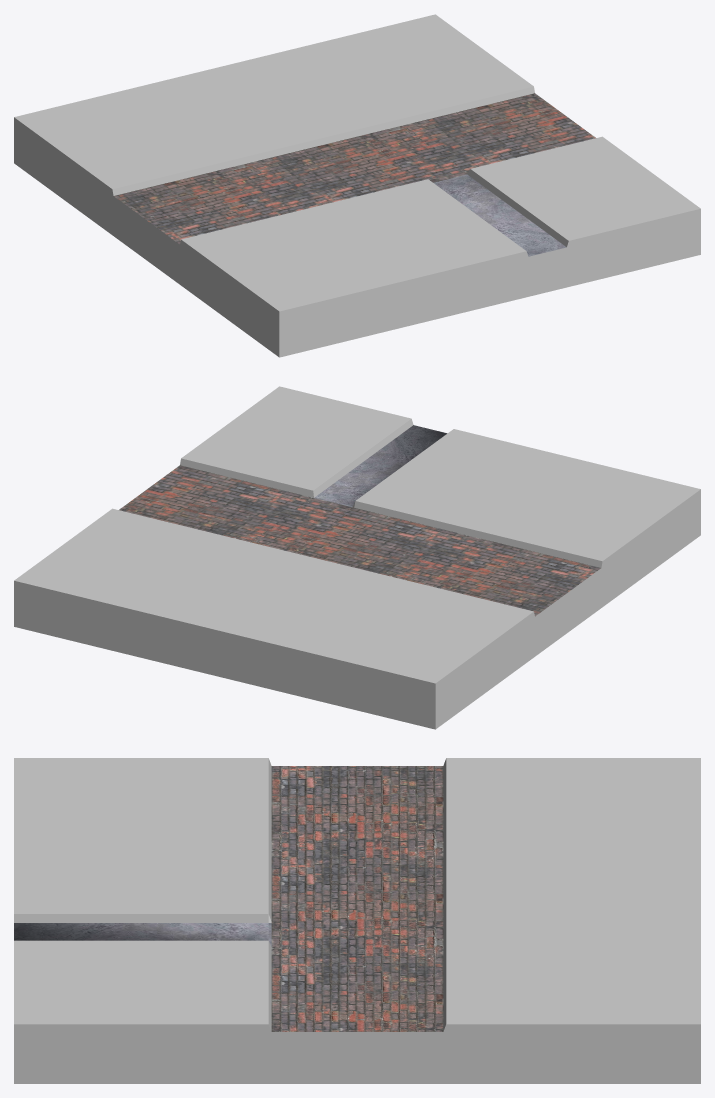
The model's file is Walkway.fbx.
The picture shows the model from 3 angles, top to bottom: view 1: azimuth 30°, elevation 25°; view 2: azimuth 150°, elevation 25°; view 3: azimuth 270°, elevation 25°; orthographic projection. The views are drawn at different scales.
Visible parts, largest first — view 1: Terrain; view 2: Terrain; view 3: Terrain.
Part boxes in pixels (x1,y1,x2,y2): Terrain: (14,14,700,357); Terrain: (14,386,700,729); Terrain: (14,758,700,1083).
Size of the model in its own units: 2200 by 230 by 2400.
